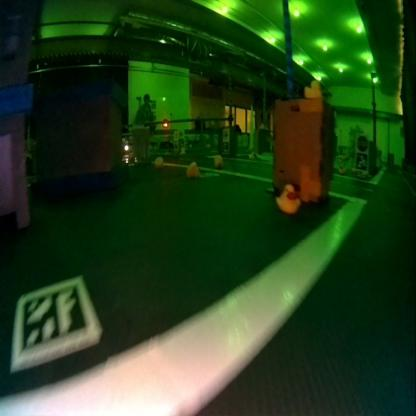Duckie: (277, 184, 298, 210), (304, 79, 320, 98), (186, 161, 198, 177), (212, 154, 222, 168), (154, 158, 163, 166), (338, 164, 344, 172)
QR code: (10, 274, 97, 367), (356, 153, 366, 167), (222, 140, 229, 149)
Stop sign: (357, 135, 367, 152)
